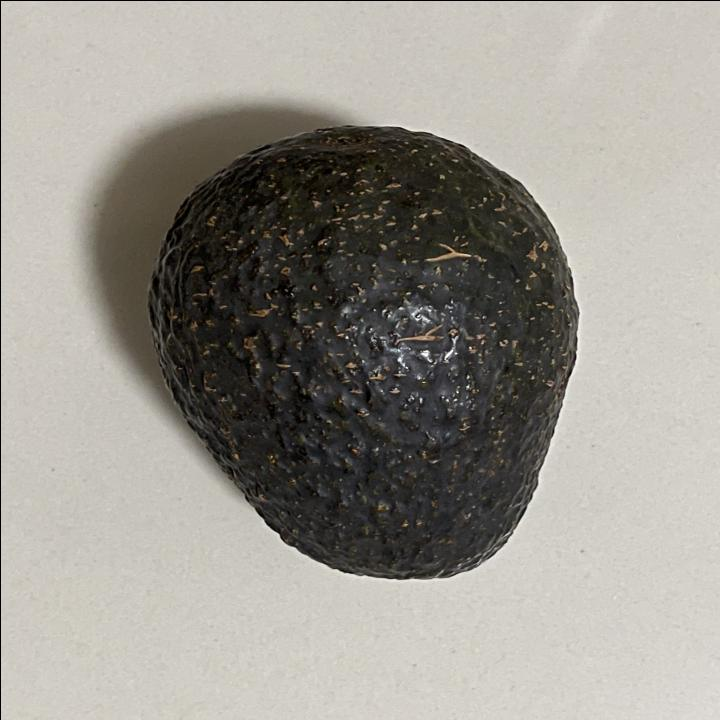Level2: (138, 120, 583, 584)
